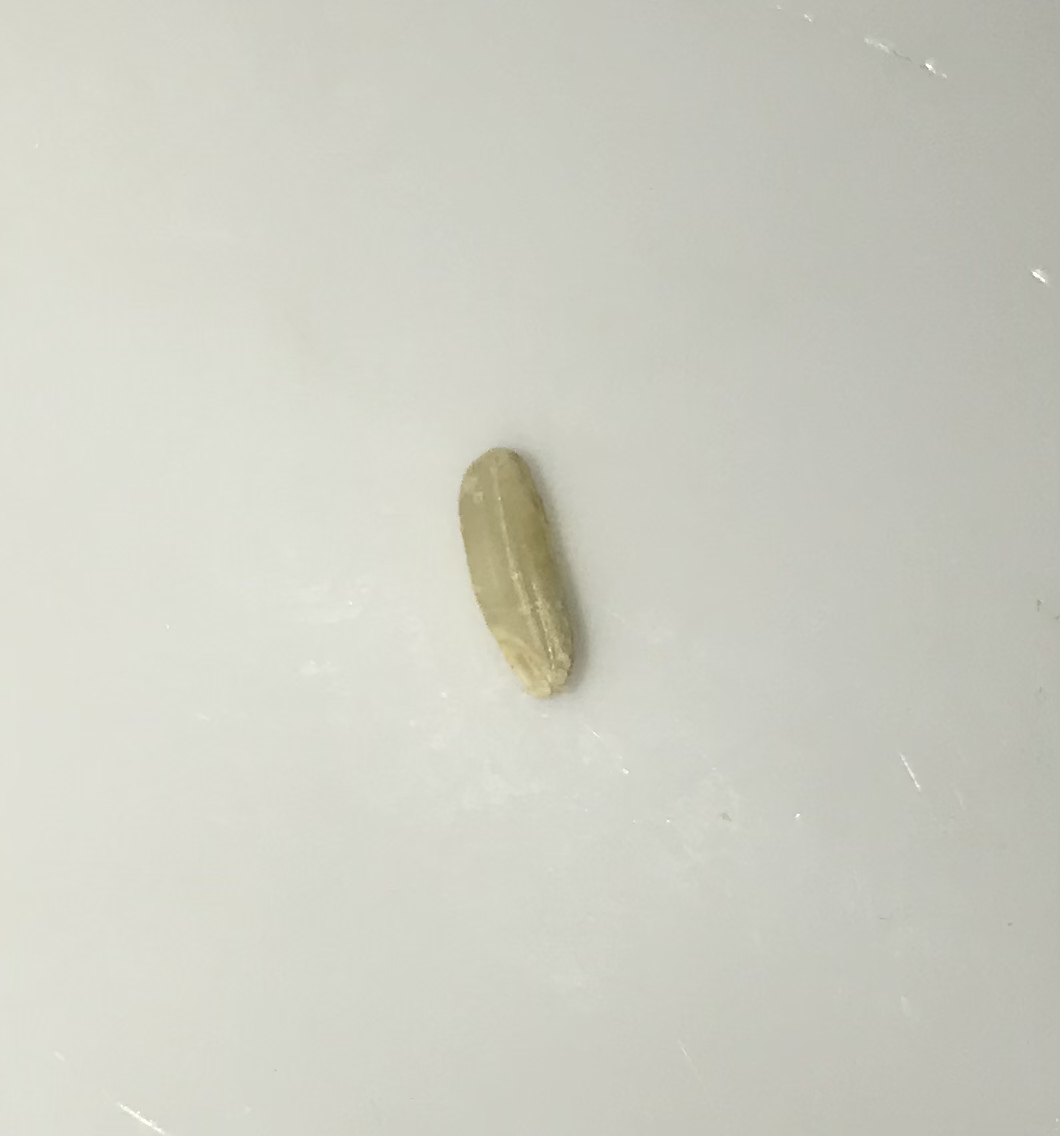Gao Lut Trang: (431, 429, 599, 709)
